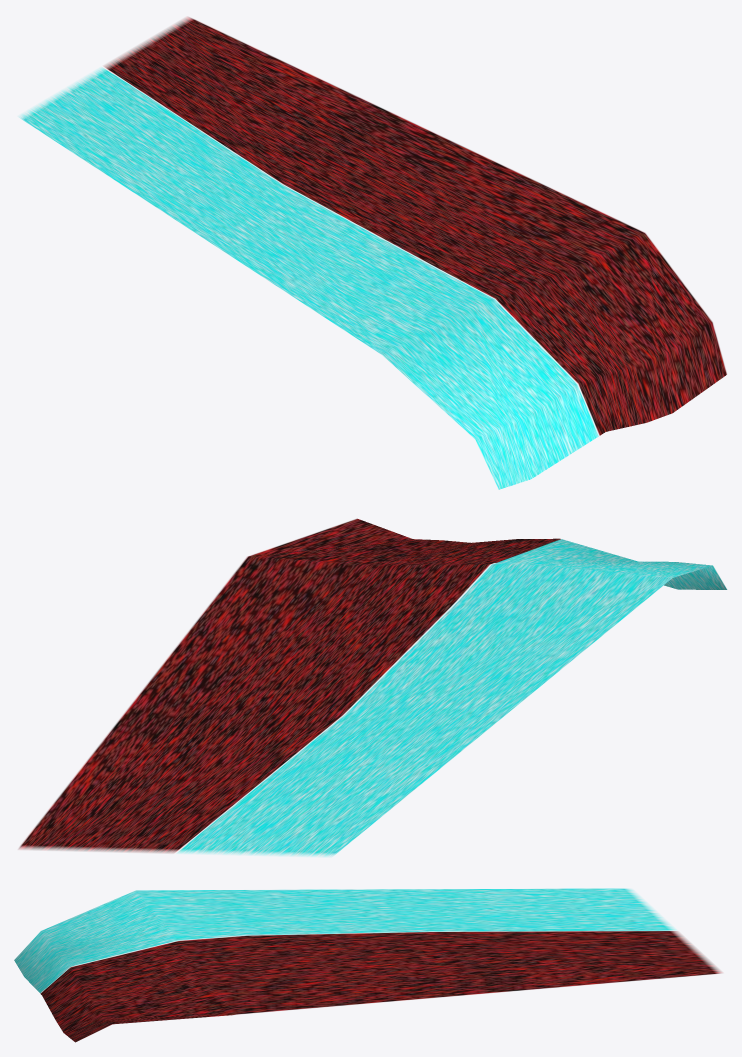
The picture shows the model from 3 angles, top to bottom: view 1: azimuth 30°, elevation 25°; view 2: azimuth 150°, elevation 25°; view 3: azimuth 270°, elevation 25°; orthographic projection. The views are drawn at different scales.
Visible parts, largest first — view 1: SM_VFX_BR_Stream04_LOD0; view 2: SM_VFX_BR_Stream04_LOD0; view 3: SM_VFX_BR_Stream04_LOD0.
Boxes of the visible parts, x1,y1,x2,y2 form: SM_VFX_BR_Stream04_LOD0: (18, 17, 726, 489); SM_VFX_BR_Stream04_LOD0: (19, 518, 727, 856); SM_VFX_BR_Stream04_LOD0: (14, 888, 721, 1042).
Bounding box in the file's own units: 6.28 × 1.48 × 15.13.
Materials: 1 (1 with a texture image).
